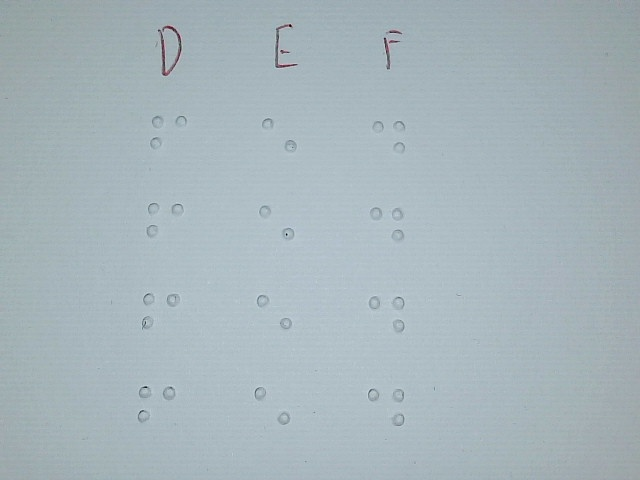D: (371, 104, 408, 177), (368, 192, 405, 265), (368, 280, 405, 353), (368, 372, 405, 445)
E: (260, 102, 299, 175), (257, 190, 296, 263), (254, 278, 293, 351), (253, 371, 292, 444)
F: (149, 99, 189, 174), (145, 186, 185, 261), (141, 276, 181, 351), (137, 368, 177, 443)
